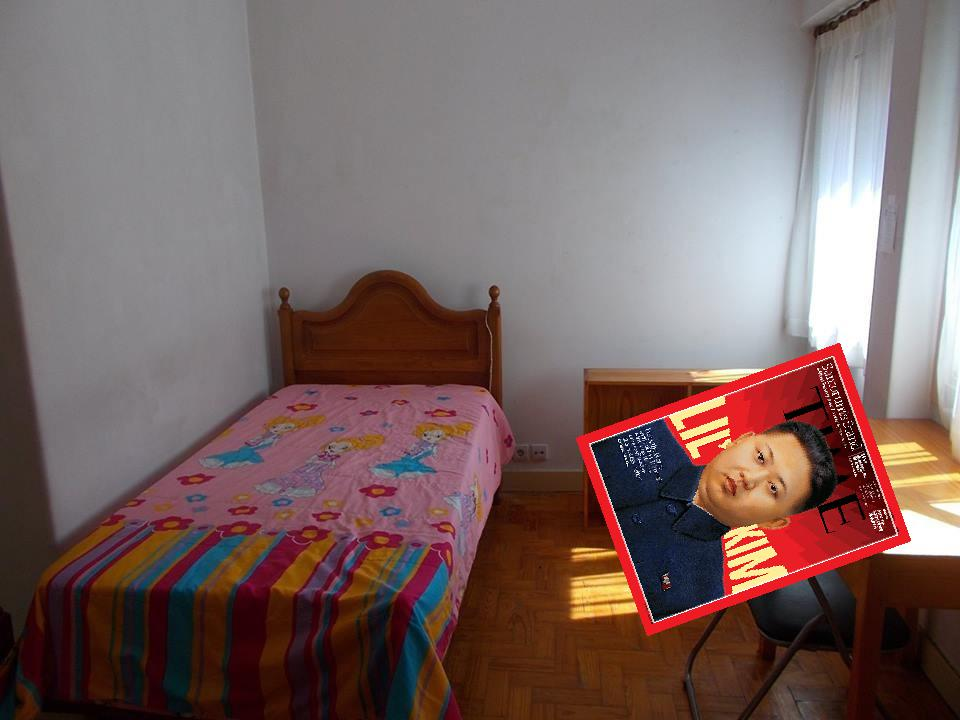times: (572, 338, 914, 642)
